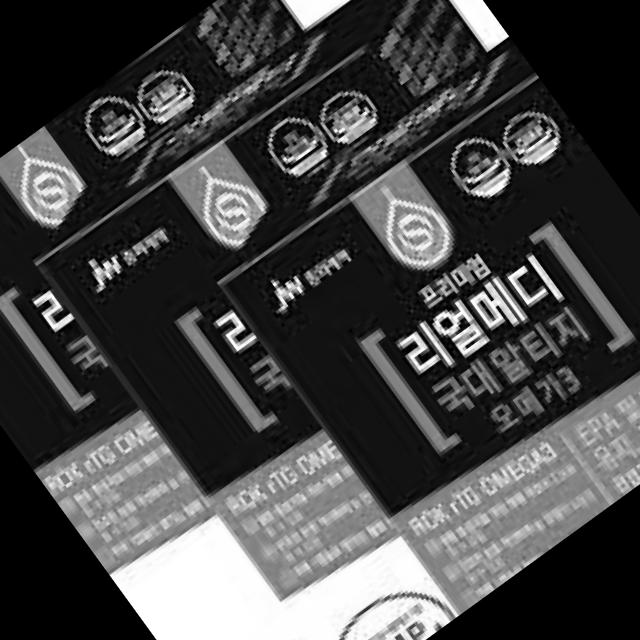GMP: (492, 94, 572, 176), (312, 76, 390, 154), (125, 57, 203, 134)
HEALTHY: (439, 123, 523, 210), (254, 104, 337, 188), (76, 83, 156, 167)
